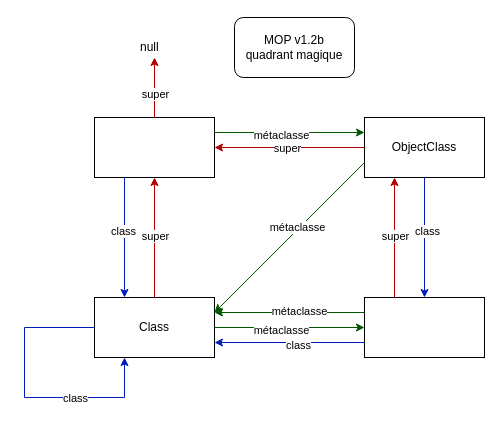
Image size: 502x423. Some labels were removed from this diagram. The shapes that lost their labels are listed below. From the top down, each one's centre as x and y in pixels, then its label:
At (154,147): "Object".
At (424,327): "ClassClass".
